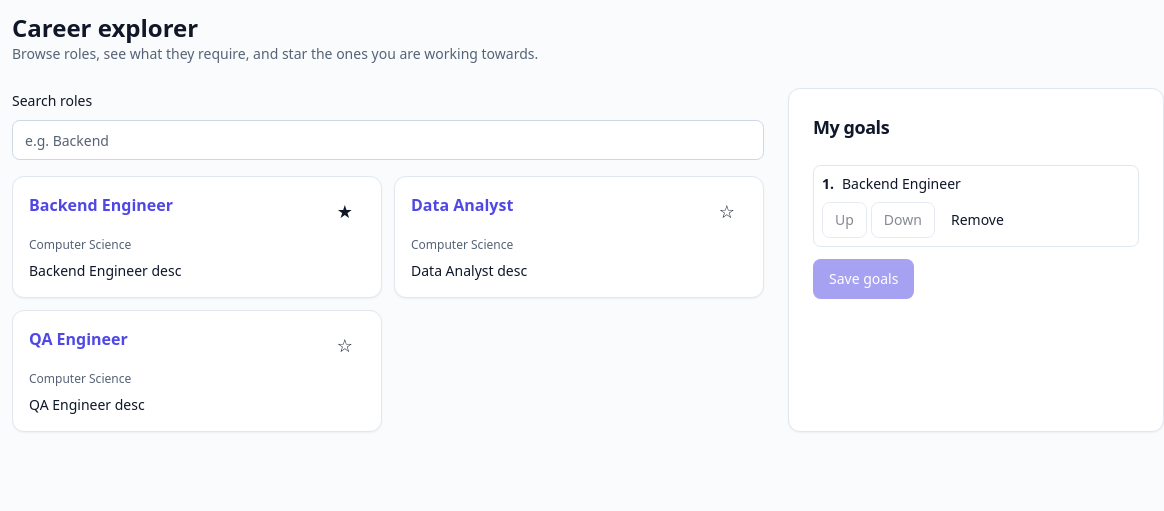
Test case: CareersPage › removes a goal from the panel and shows save errors
Click the button with aria-label "Remove Backend Engineer".
click(977, 220)  # box [939,202,1016,238]
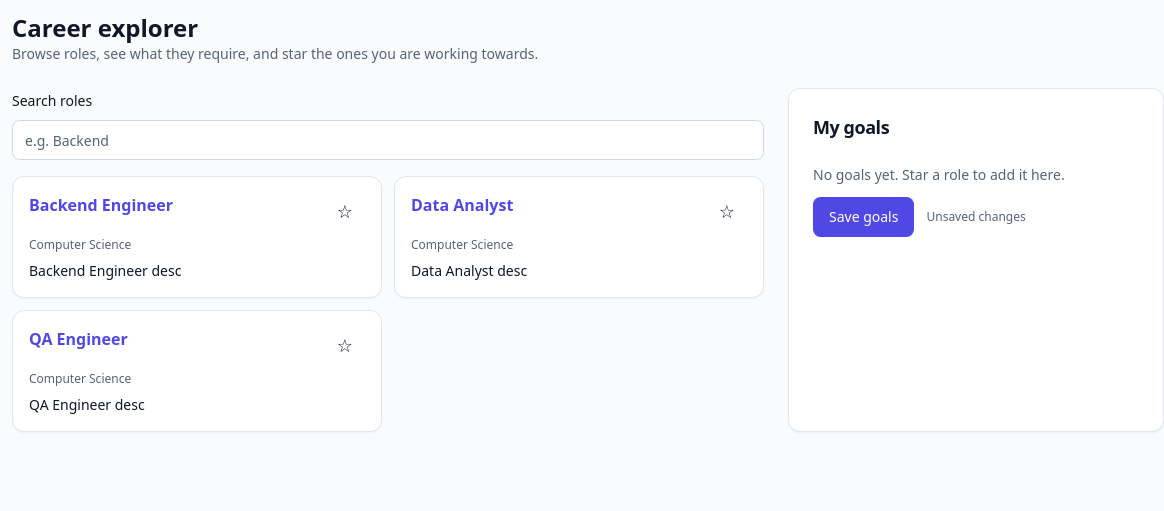
expect the text "No goals yet. Star a role to add it here." is shown: met, box [813,165,1065,184]
Click the button "Save goals".
click(864, 217)  # box [813,197,914,237]
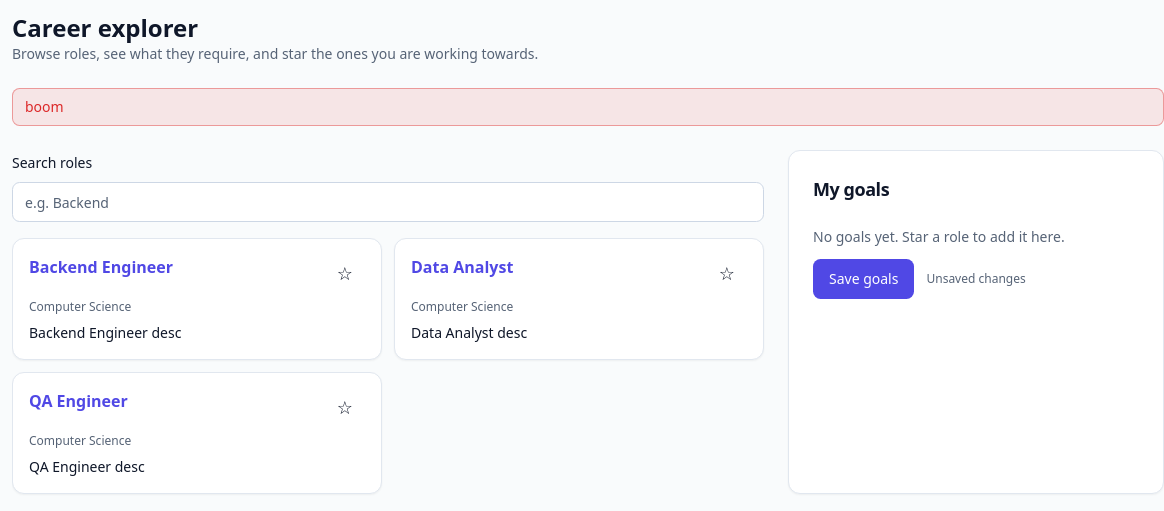
expect the message reads "boom": met, box [25,97,64,116]
